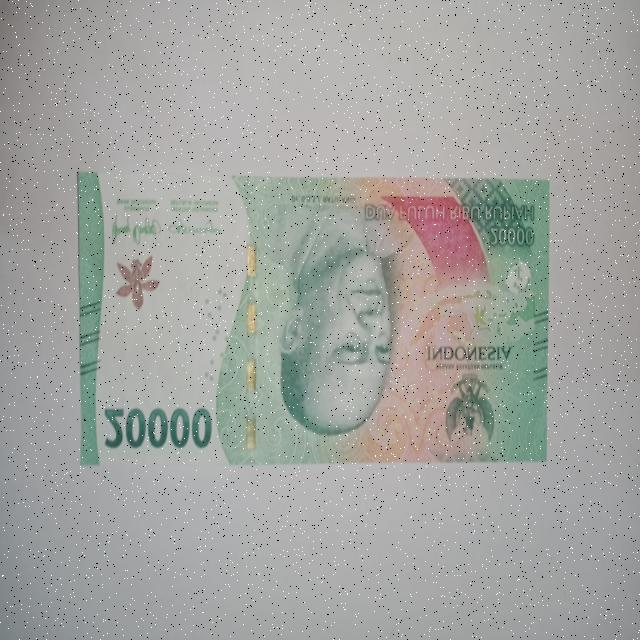20K: (64, 162, 558, 472)
